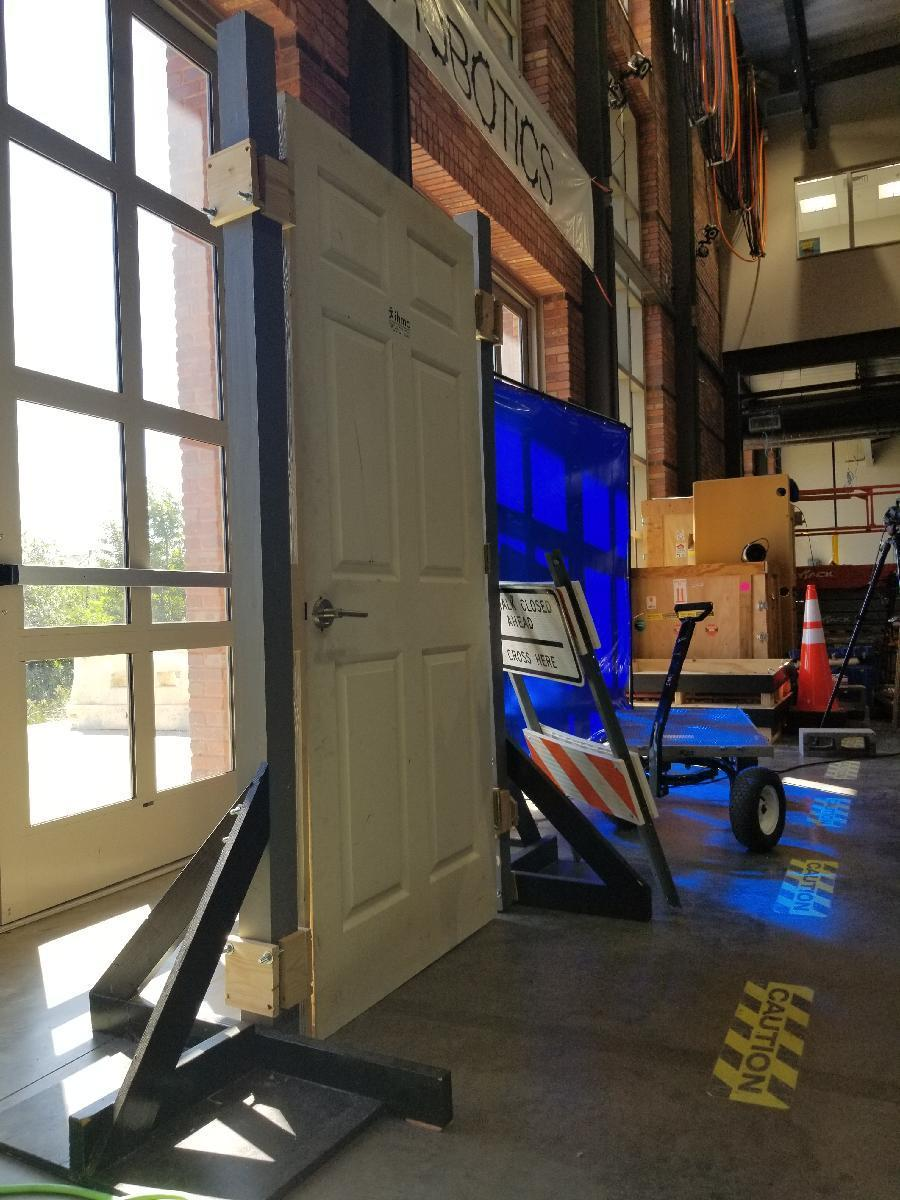door: (288, 131, 511, 1018)
handle: (310, 596, 372, 632)
